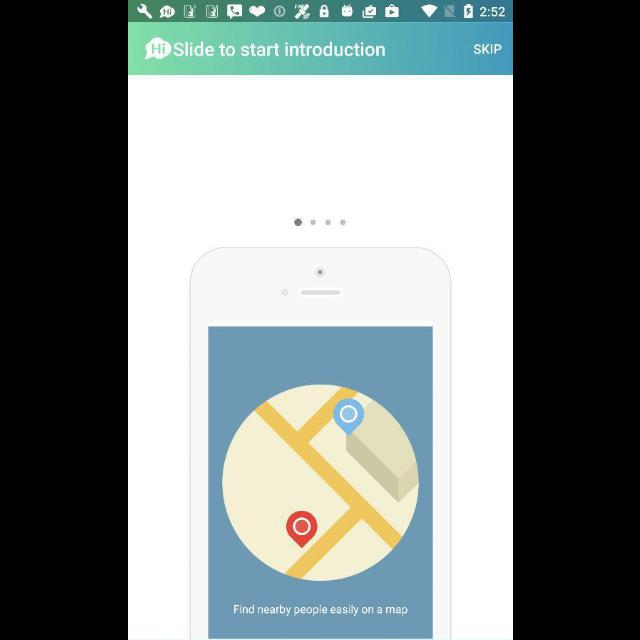image: (188, 246, 452, 640), (144, 38, 172, 60)
pageindicator: (292, 218, 346, 228)
text: (173, 41, 385, 58), (472, 44, 502, 56)
toolbar: (128, 23, 512, 75)
uppertaskbar: (128, 1, 512, 23)
